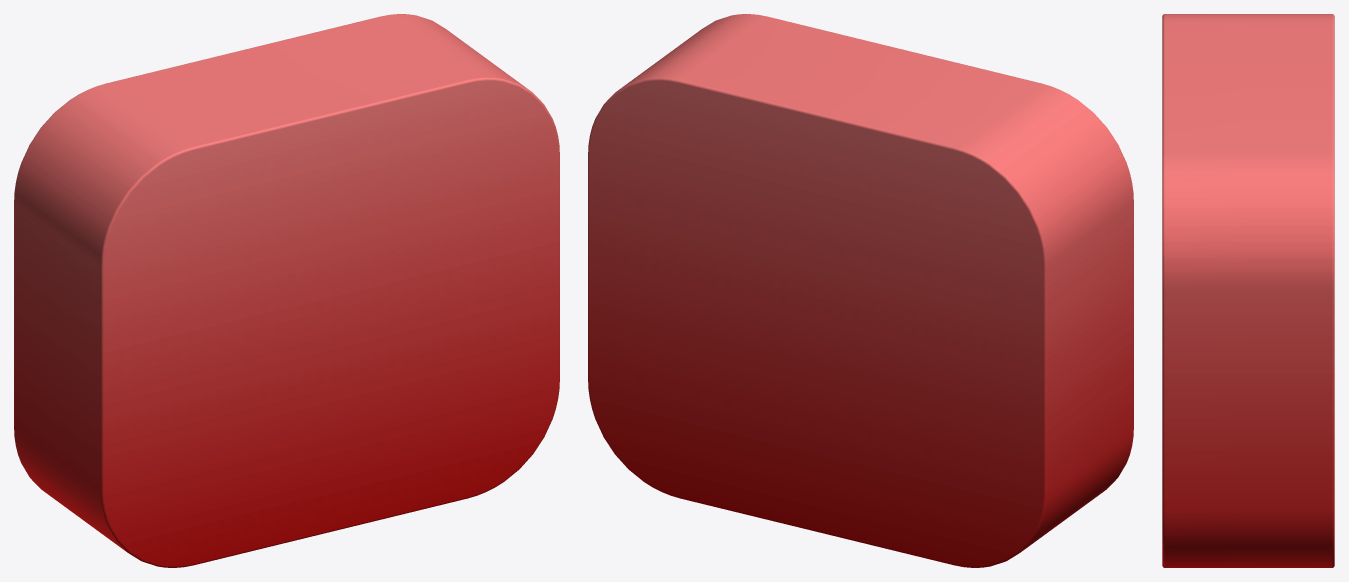
3 renders of one model, left to right at view 1: azimuth 30°, elevation 25°; view 2: azimuth 150°, elevation 25°; view 3: azimuth 270°, elevation 25°, orthographic. The views are drawn at different scales.
Parts seen in each view (by area): view 1: Rectangle 1; view 2: Rectangle 1; view 3: Rectangle 1.
Boxes of the visible parts, bbox=[...] form: Rectangle 1: bbox=[14, 14, 559, 567]; Rectangle 1: bbox=[588, 14, 1133, 567]; Rectangle 1: bbox=[1162, 14, 1334, 567].
Size of the model in its own units: 25 by 21.78 by 8.38.
Materials: 1 (1 with a texture image).
